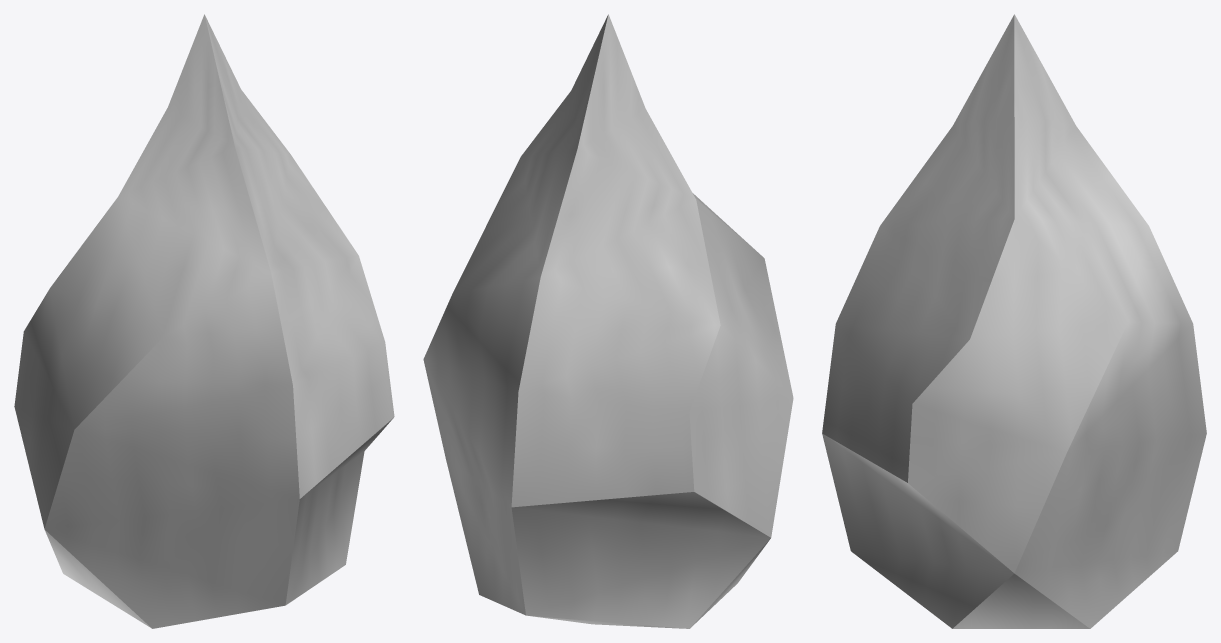
3 views of the same model, side by side, from view 1: azimuth 30°, elevation 25°; view 2: azimuth 150°, elevation 25°; view 3: azimuth 270°, elevation 25° (orthographic).
Size of the model in its own units: 0.0158 by 0.0278 by 0.0163.
1 material, 1 textured.
